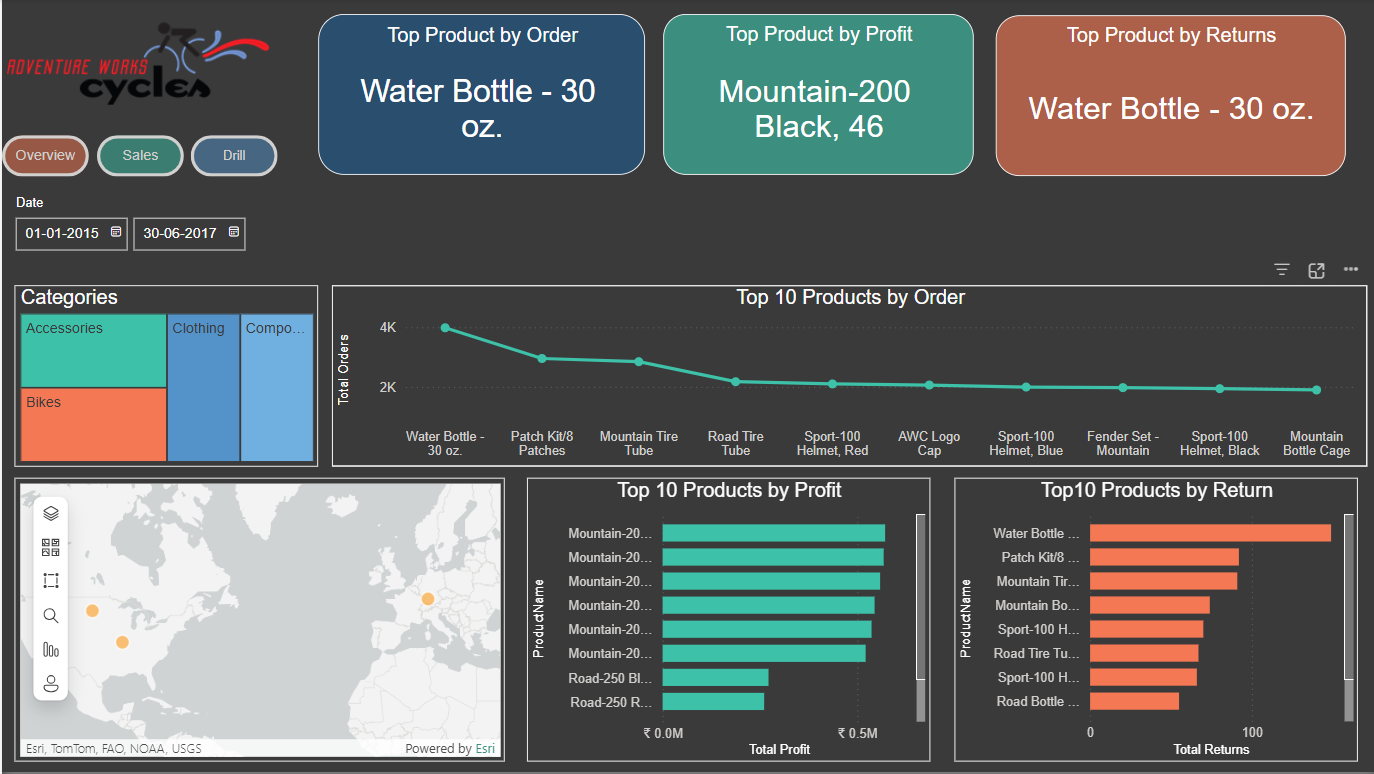

The page's visual inventory and layout, read from the dashboard file:
{"tool":"powerbi","page":{"name":"ABC Analysis","canvas":[1280,720],"ordinal":2},"visuals":[{"type":"image","box":[0,15.5,255.9,90.1],"z":0},{"type":"actionButton","box":[88.1,126.4,80.8,38.3],"z":1000},{"type":"actionButton","box":[175.1,126.4,80.8,38.3],"z":2000},{"type":"actionButton","box":[0,126.4,80.8,38.3],"z":3000},{"type":"card","title":"Top Product by Order","fields":{"Values":["Min(AW_Product_Lookup.ProductName)"]},"box":[294.6,14.3,304.1,149.7],"z":4000},{"type":"card","title":"Top Product by Profit","fields":{"Values":["Min(AW_Product_Lookup.ProductName)"]},"box":[615.3,14.3,288.6,149.7],"z":5000},{"type":"card","title":"Top Product by Returns","fields":{"Values":["Min(AW_Product_Lookup.ProductName)"]},"box":[924.1,15.4,325.5,149.7],"z":6000},{"type":"slicer","fields":{"Values":["AW_Calendar_Lookup.Date"]},"box":[0,178.2,1280.5,87.9],"z":7000},{"type":"treemap","title":"Categories","fields":{"Group":["AW_Product_Categories_Lookup.CategoryName"],"Values":["CountNonNull(AW_Product_Categories_Lookup.ProductCategoryKey)"]},"box":[11.9,266.1,282.7,168.7],"z":8000},{"type":"esriVisual","fields":{"Location":["AW_Territories_Lookup.Continent"]},"box":[11.9,445.4,456.1,263.7],"z":9000},{"type":"lineChart","title":"Top 10 Products by Order","fields":{"Y":["AW_Sales.Total Orders"],"Category":["AW_Product_Lookup.ProductName"]},"box":[306.5,266.1,963.3,168.7],"z":10000},{"type":"barChart","title":"Top 10 Products by Profit","fields":{"Y":["AW_Sales.Total Profit"],"Category":["AW_Product_Lookup.ProductName"]},"box":[488.3,445.2,374.9,264],"z":11000},{"type":"barChart","title":"Top10 Products by Return","fields":{"Category":["AW_Product_Lookup.ProductName"],"Y":["AW_Returns.Total Returns"]},"box":[886.1,445.4,375.4,263.7],"z":12000}]}

Visuals, with their boxes in screenshot pixels (x1, y1, x2, y2), scaled from the page's 1280x720 canvas onto the 1374x774 screenshot:
image: 0/17/275/114
actionButton: 95/136/181/177
actionButton: 188/136/275/177
actionButton: 0/136/87/177
"Top Product by Order" card: 316/15/643/176
"Top Product by Profit" card: 660/15/970/176
"Top Product by Returns" card: 992/17/1341/177
slicer - AW_Calendar_Lookup.Date: 0/192/1373/286
"Categories" treemap: 13/286/316/467
esriVisual - AW_Territories_Lookup.Continent: 13/479/502/762
"Top 10 Products by Order" lineChart: 329/286/1363/467
"Top 10 Products by Profit" barChart: 524/479/927/762
"Top10 Products by Return" barChart: 951/479/1354/762
